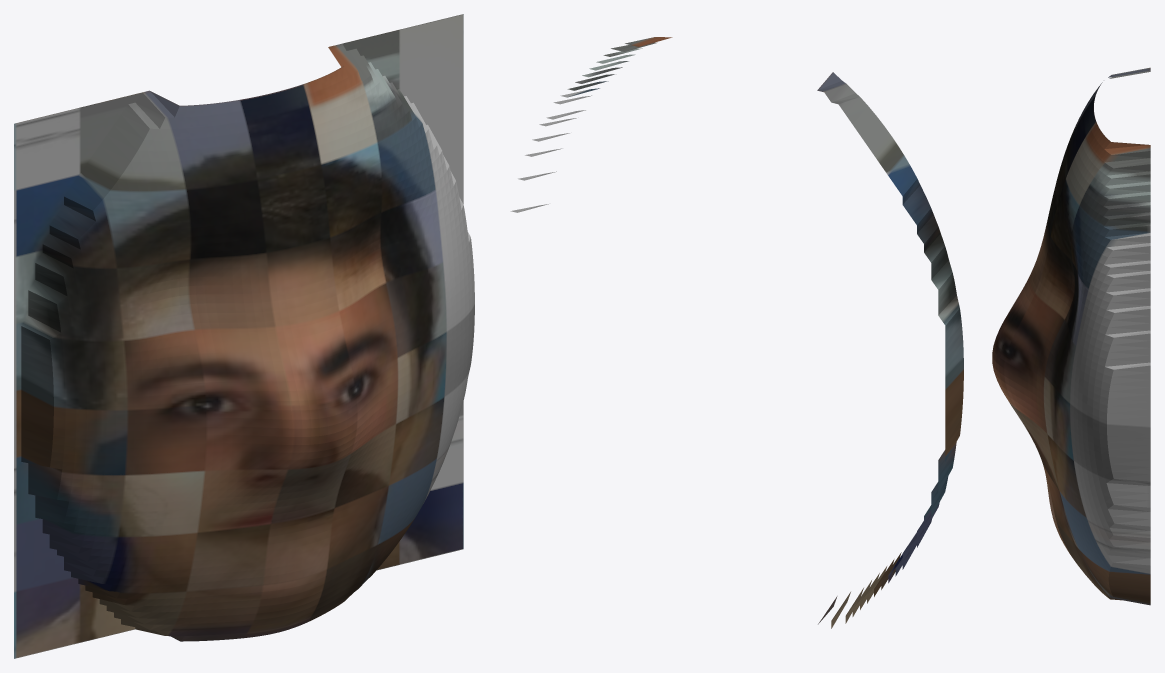
File: reconstructed_face.glb
3 views of the same model, side by side, from view 1: azimuth 30°, elevation 25°; view 2: azimuth 150°, elevation 25°; view 3: azimuth 270°, elevation 25° (orthographic). The views are drawn at different scales.
Visible parts, largest first — view 1: geometry_0; view 2: geometry_0; view 3: geometry_0.
Part boxes in pixels (x1,y1,x2,y2): geometry_0: [14, 14, 474, 658]; geometry_0: [510, 37, 963, 628]; geometry_0: [992, 67, 1150, 605].
Bounding box in the file's own units: 1.76 × 2 × 0.6274.
Materials: 1 (1 with a texture image).
